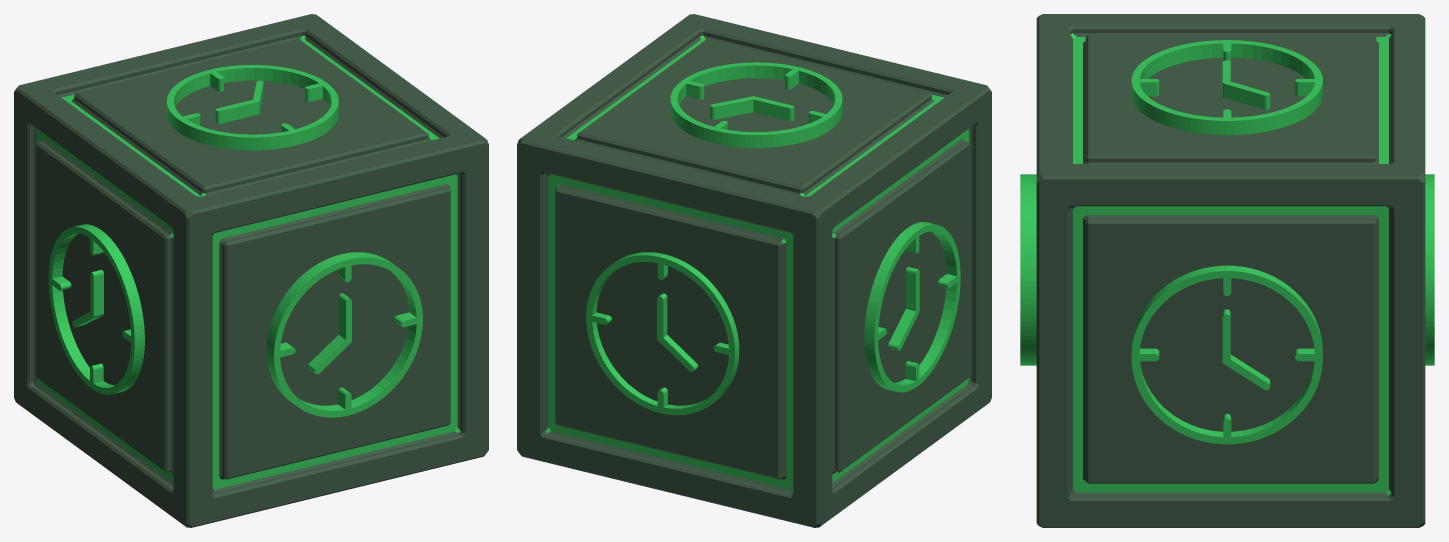
Rendered from TimePO.fbx.
3 renders of one model, left to right at view 1: azimuth 30°, elevation 25°; view 2: azimuth 150°, elevation 25°; view 3: azimuth 270°, elevation 25°, orthographic. The views are drawn at different scales.
Visible parts, largest first — view 1: Cube.031; view 2: Cube.031; view 3: Cube.031.
Boxes of the visible parts, <box> form: Cube.031: <box>14,14,488,527</box>; Cube.031: <box>517,14,991,527</box>; Cube.031: <box>1020,14,1434,527</box>.
Bounding box in the file's own units: 66.65 × 66.65 × 66.65.
